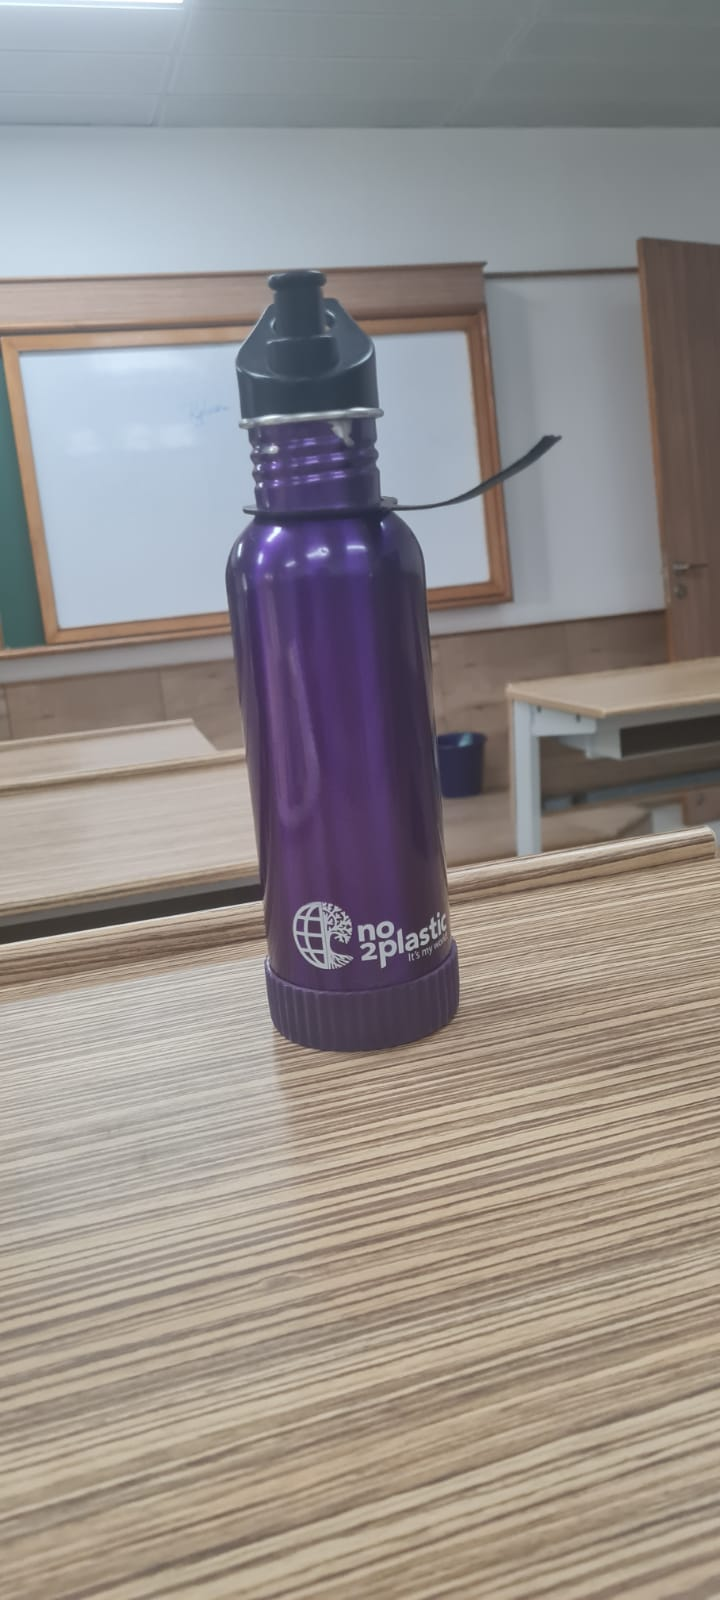bottle: (220, 261, 470, 1070)
